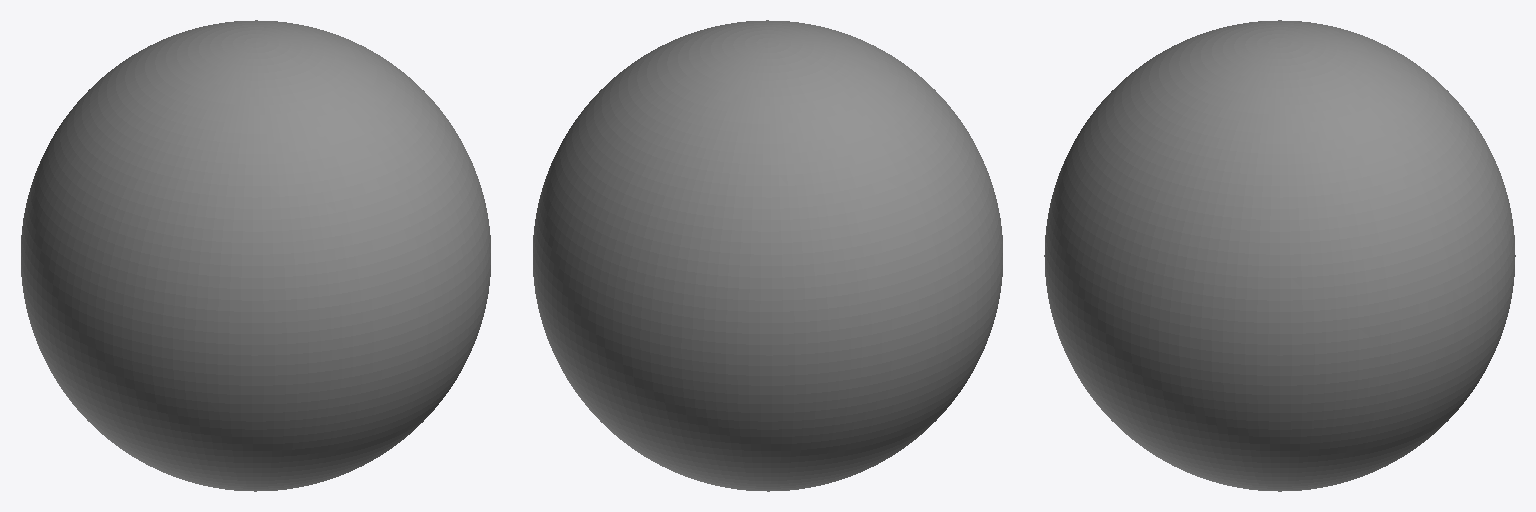
Rendered from Moon.obj.
3 renders of one model, left to right at view 1: azimuth 30°, elevation 25°; view 2: azimuth 150°, elevation 25°; view 3: azimuth 270°, elevation 25°, orthographic.
Visible parts, largest first — view 1: Moon; view 2: Moon; view 3: Moon.
Part boxes in pixels (left/top/right/bottom): Moon: left=21, top=20, right=490, bottom=491; Moon: left=533, top=20, right=1002, bottom=491; Moon: left=1044, top=20, right=1515, bottom=491.
Bounding box in the file's own units: 50 × 50 × 50.